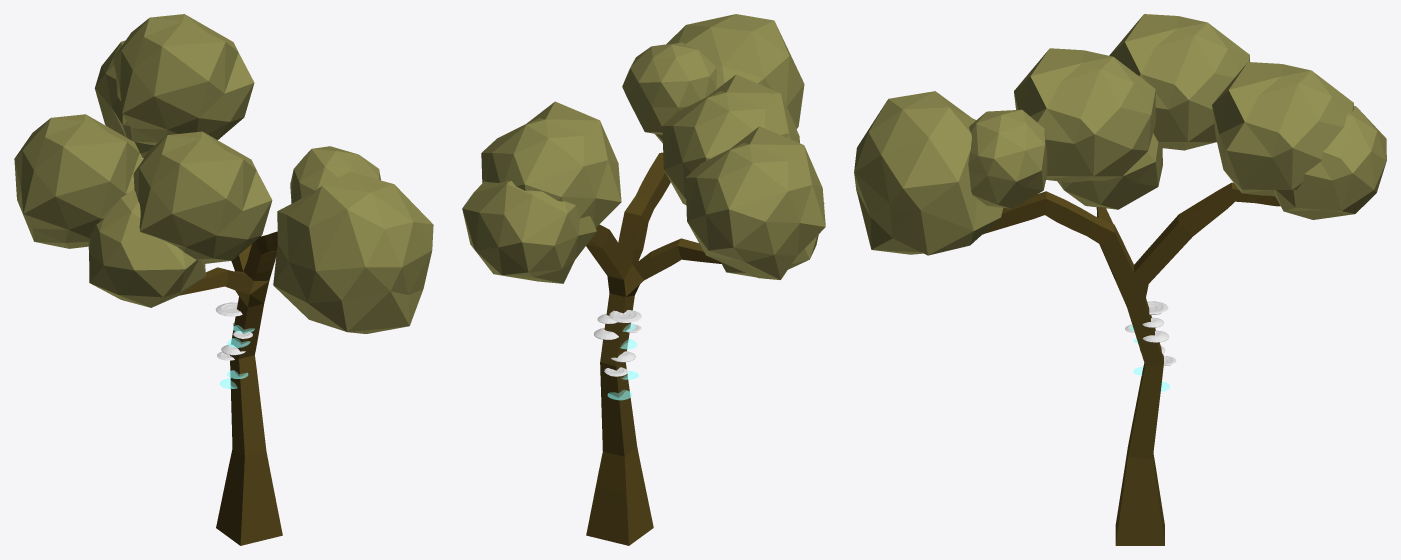
The model's file is medium mushroom tree.fbx.
3 renders of one model, left to right at view 1: azimuth 30°, elevation 25°; view 2: azimuth 150°, elevation 25°; view 3: azimuth 270°, elevation 25°, orthographic.
Visible parts, largest first — view 1: Icosphere.001, Icosphere.008, Icosphere.005; view 2: Icosphere.001, Icosphere.005, Icosphere.008; view 3: Icosphere.001, Icosphere.008, Icosphere.005.
Boxes of the visible parts, box(x1,y1,x2,y2) form: Icosphere.001: box(14, 14, 272, 263); Icosphere.008: box(243, 146, 433, 333); Icosphere.005: box(88, 40, 282, 545); Icosphere.001: box(481, 74, 825, 279); Icosphere.005: box(462, 181, 824, 545); Icosphere.008: box(618, 14, 804, 263); Icosphere.001: box(1014, 14, 1353, 195); Icosphere.008: box(854, 91, 1133, 280); Icosphere.005: box(1057, 106, 1386, 545).
Size of the model in its own units: 98.44 by 153 by 160.
